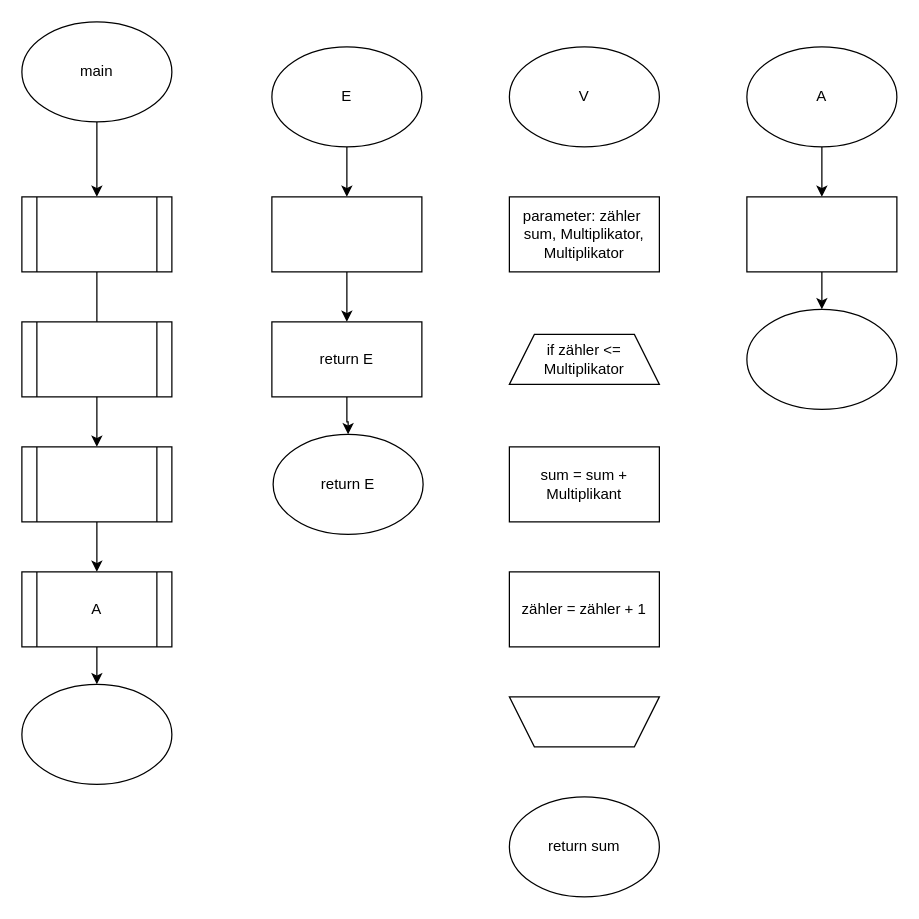
Some shapes in this 919 by 919 pixel diagram are drawn without their labels. The shapes that lost their labels are listed below. From the top down, each one's centre as x and y in pixels, then its label:
At (x=96, y=234): "int Multiplikator = E".
At (x=346, y=234): "Input E = Insert Number".
At (x=821, y=234): "Print sum".
At (x=96, y=359): "int Multiplikant = E".
At (x=96, y=484): "V int Multiplikant int Multiplikator".
